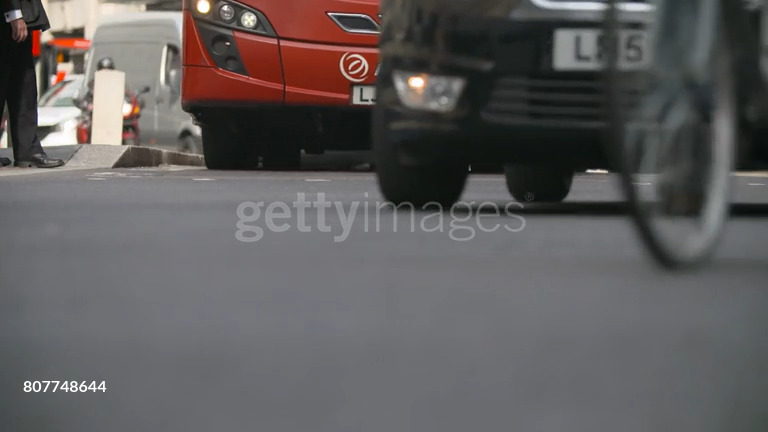car number: (553, 27, 649, 71), (350, 84, 376, 104)
